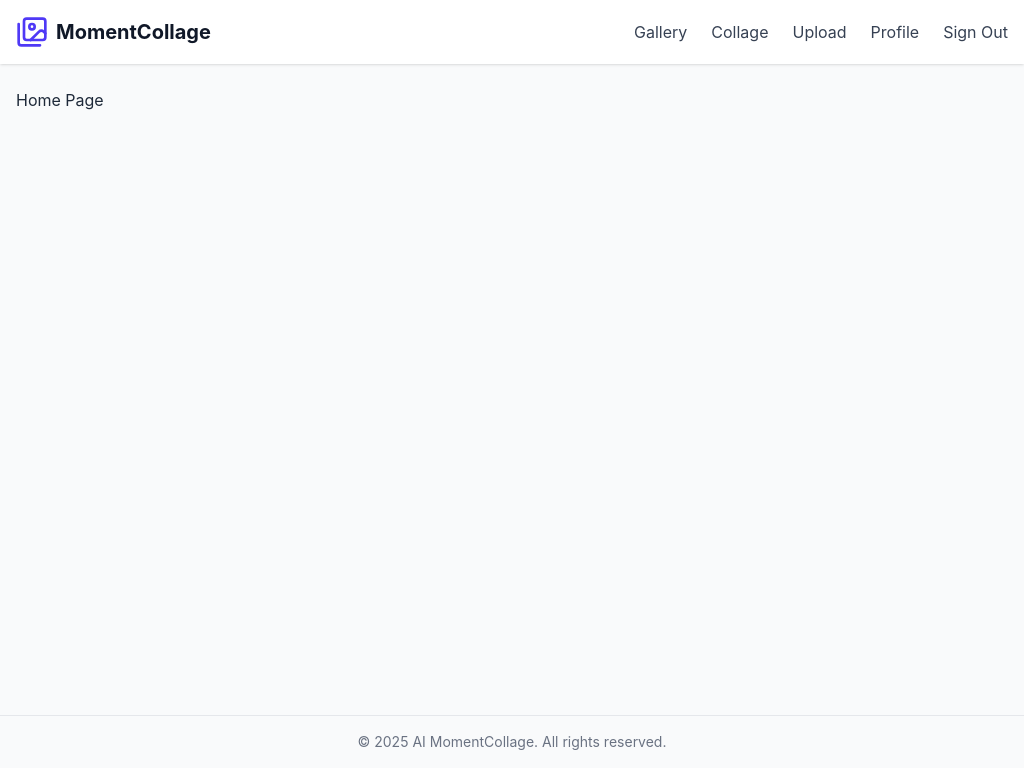
Layout component › navigates between pages
The image size is (1024, 768).
Click the link "Gallery" at x=661, y=32, box [634,20,687,44]
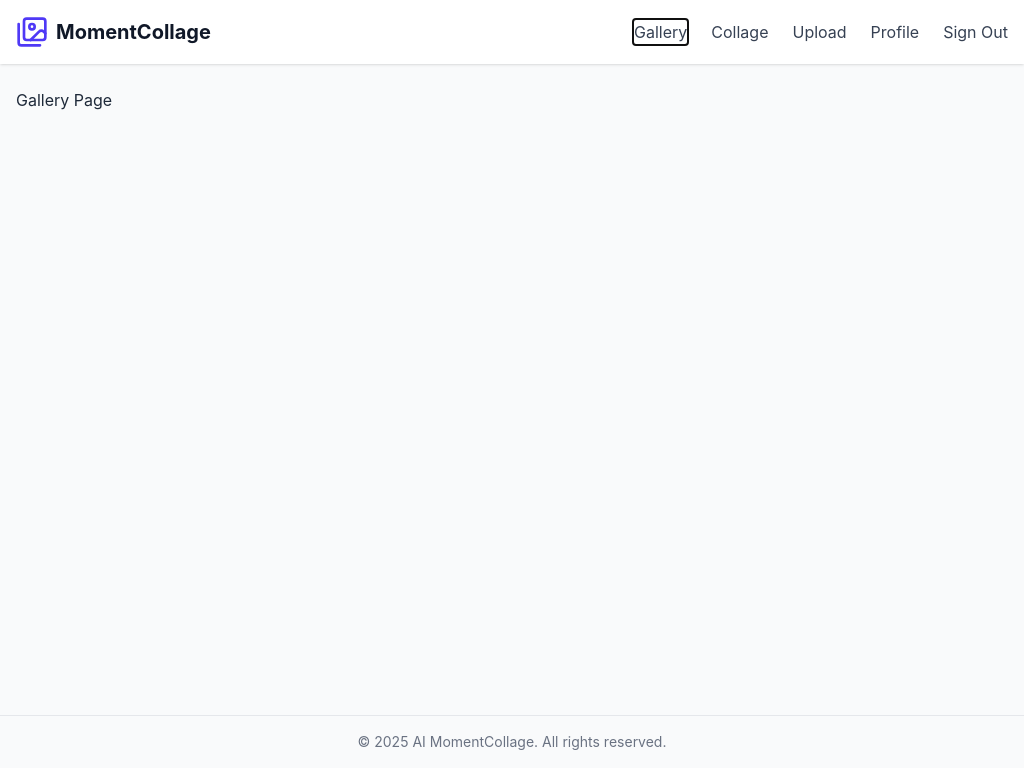
Expected: the text "Gallery Page" is shown, [16,90,112,110]
